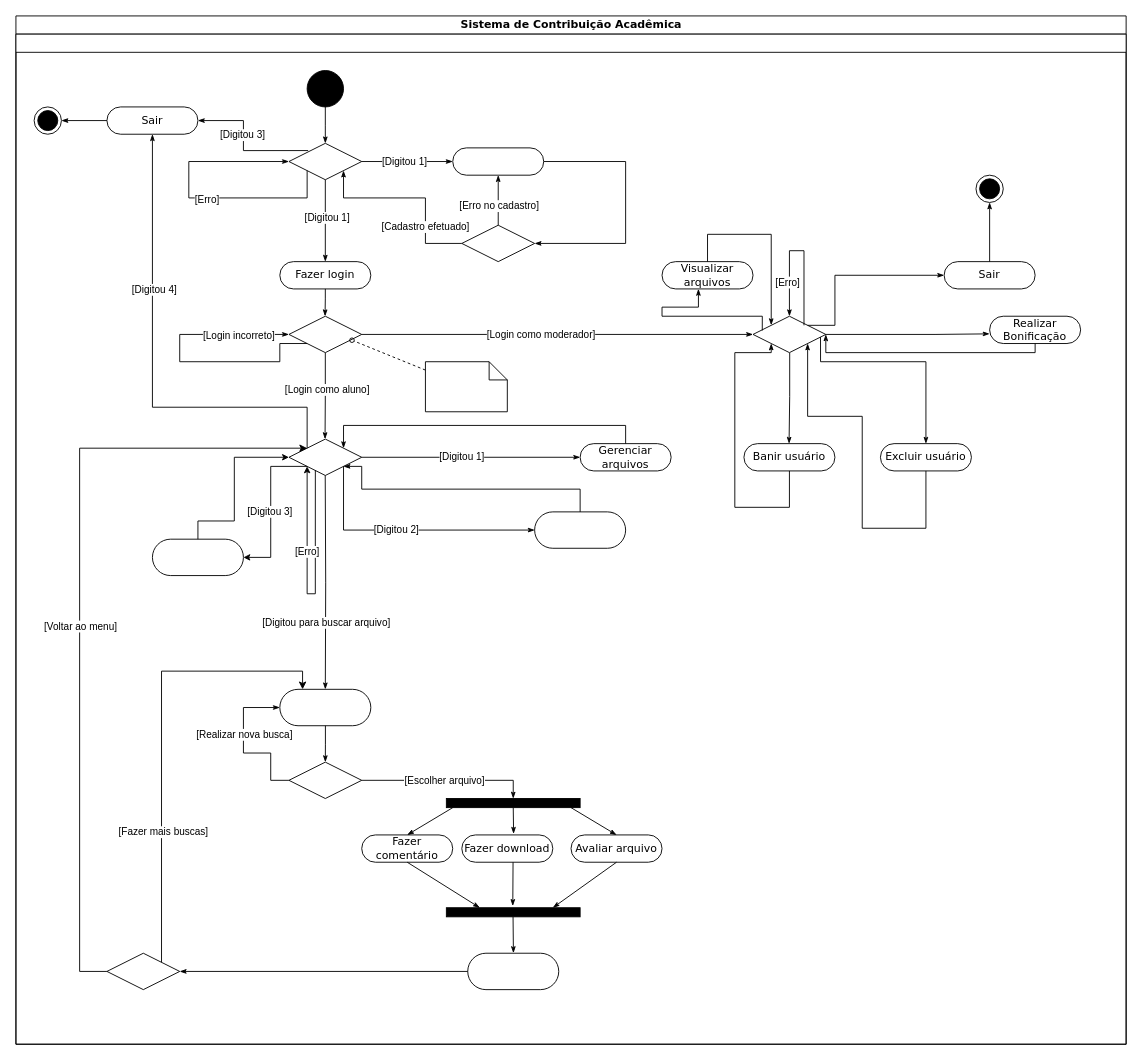
Some shapes in this 1142 by 1060 pixel diagram are drawn without their labels. The box of each missing label's shape, as (x1, y1, x2, y2) in pixels:
Acessar grupos disponíveis: (152, 538, 243, 576)
Acessar ranking de usuarios: (534, 511, 626, 548)
Buscar arquivo: (279, 688, 371, 726)
Finalizar busca: (467, 952, 559, 990)
Registrar aluno: (452, 147, 544, 175)
Tipo de usuário a ser logado: (425, 361, 507, 412)
